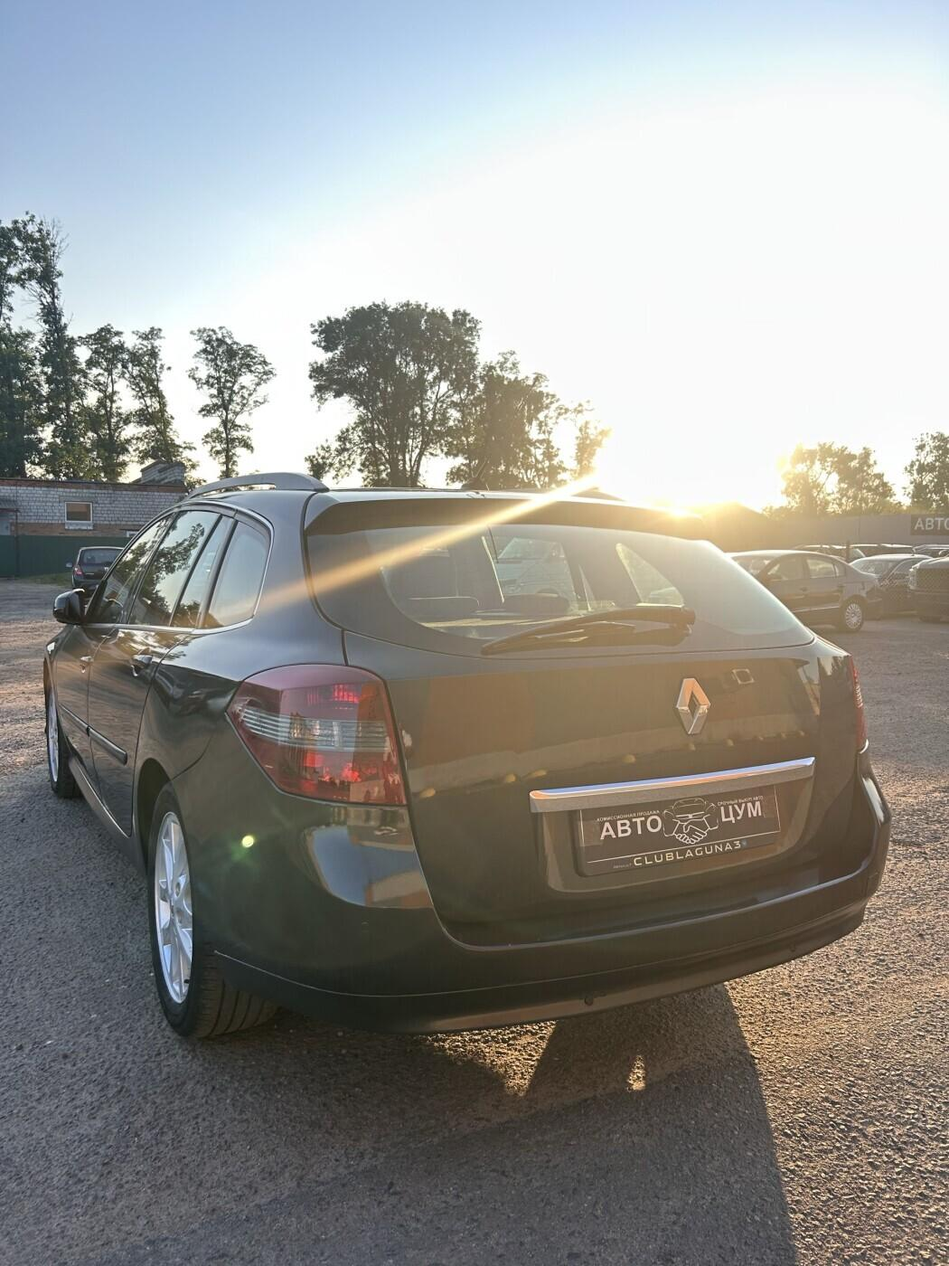Laguna_2007-2011: (40, 474, 890, 1036)
